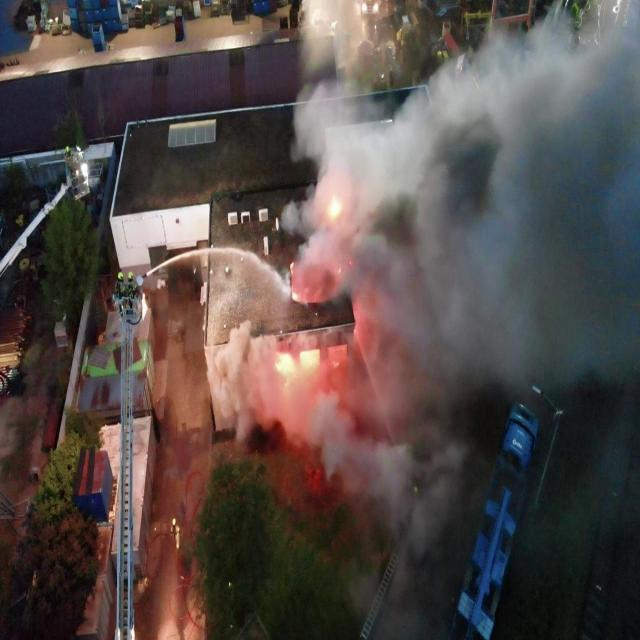Fire: (275, 354, 294, 374), (300, 349, 320, 367), (326, 196, 342, 218), (332, 361, 340, 368), (290, 262, 294, 274), (292, 292, 298, 300), (338, 268, 342, 274)
Smoke: (205, 0, 640, 554)
